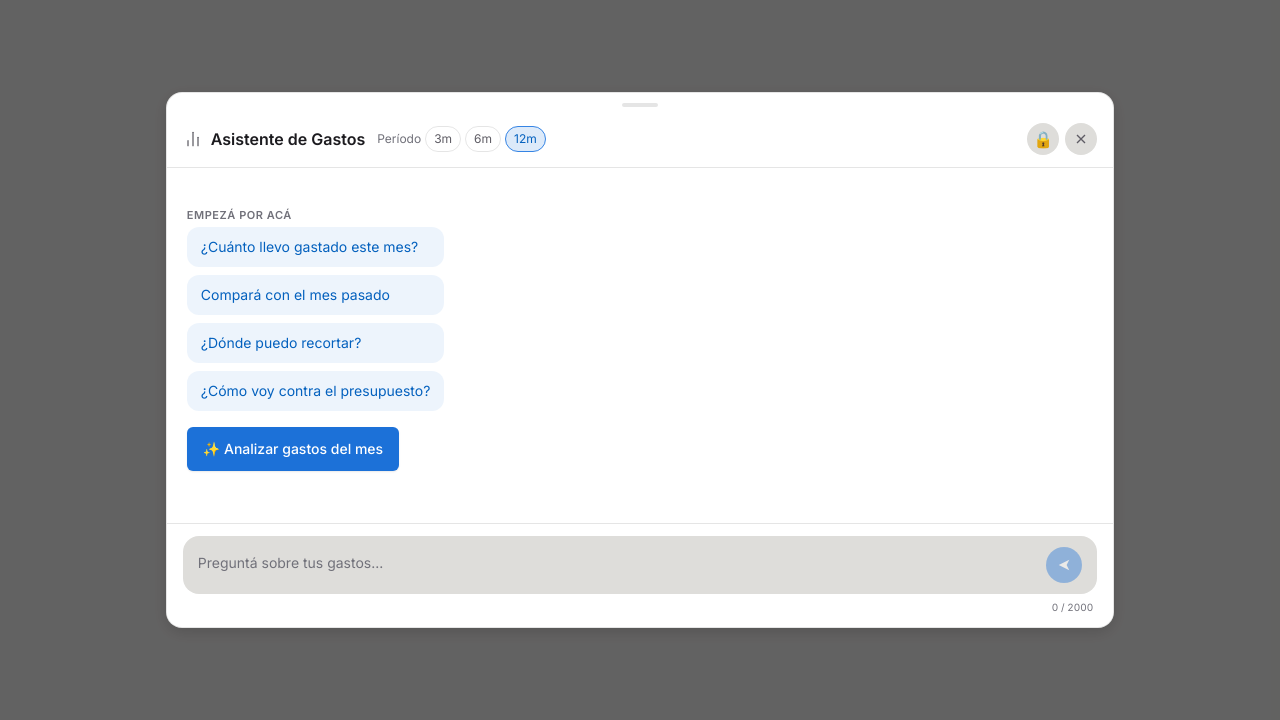
AssistantShell › a failed monthly analysis shows the error state and retries via the slot
The image size is (1280, 720).
Click the button "✨ Analizar gastos del mes" at coordinates (293, 449), box [187,427,399,471]
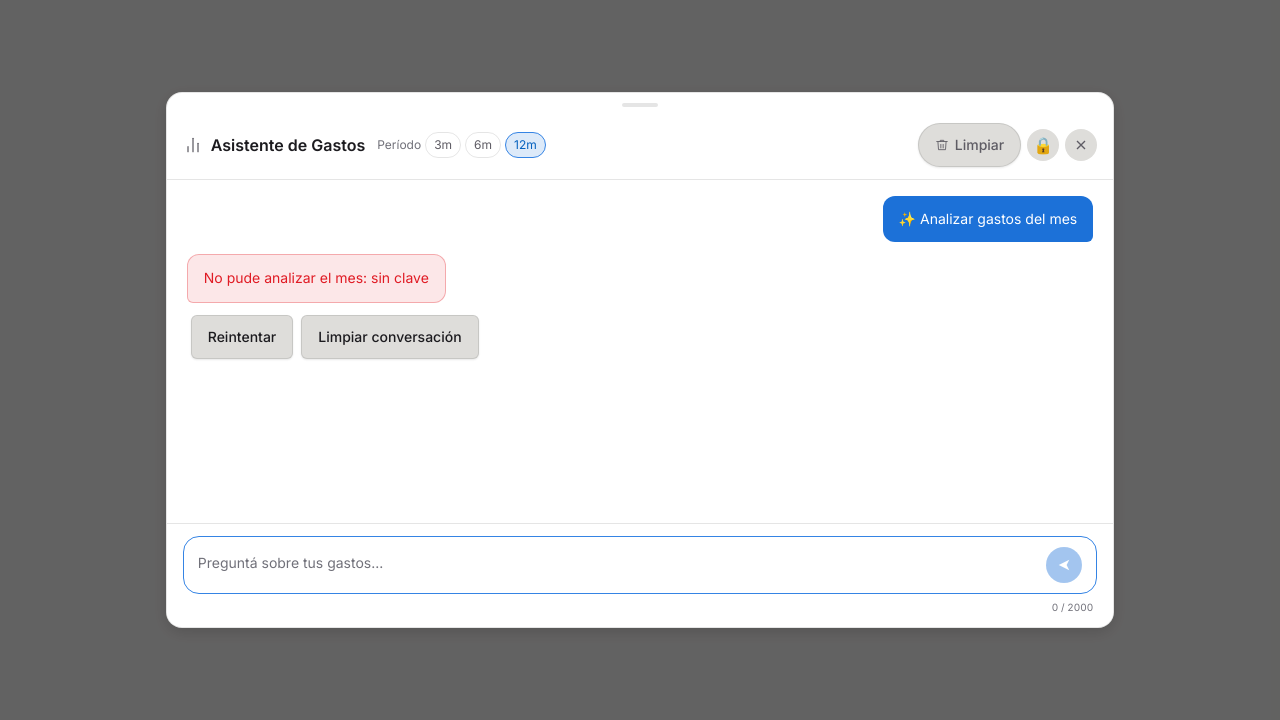
Expected: the text "No pude analizar el mes: sin clave" is shown, [187,254,446,303]
Note: The failure must be an error bubble, or the retry affordance never appears.
Click the button "Reintentar" at coordinates (242, 337), box [191,315,293,359]
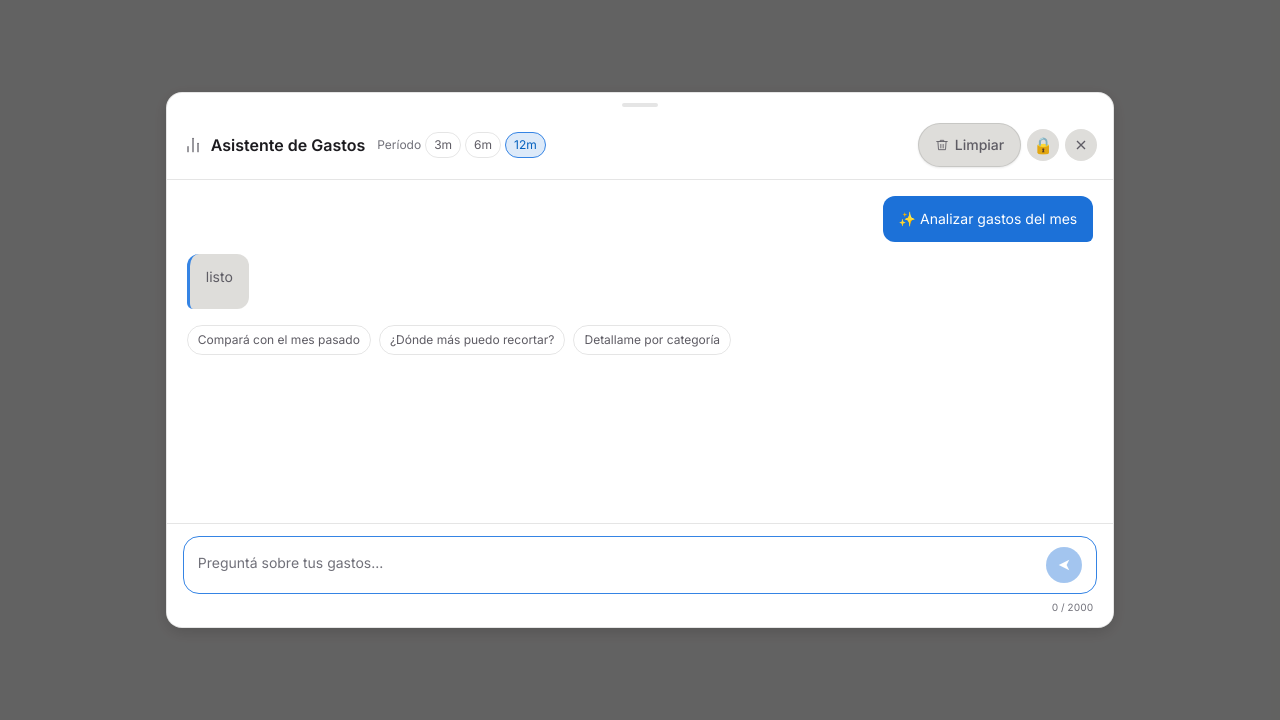
Expected: the text "listo" is shown, [206,266,233,289]
